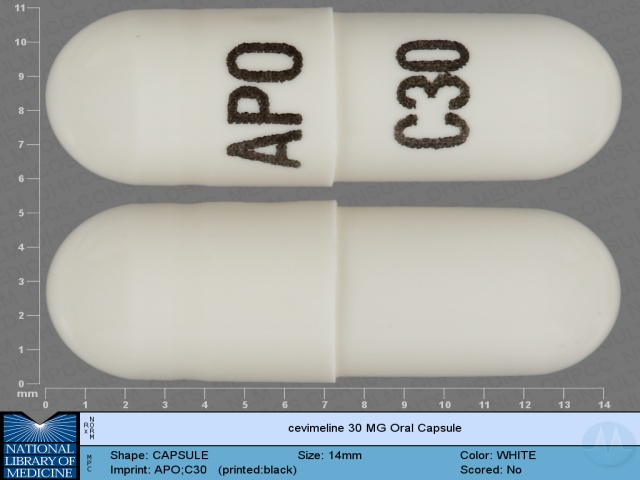capsule: (44, 197, 622, 387), (49, 7, 624, 188)
